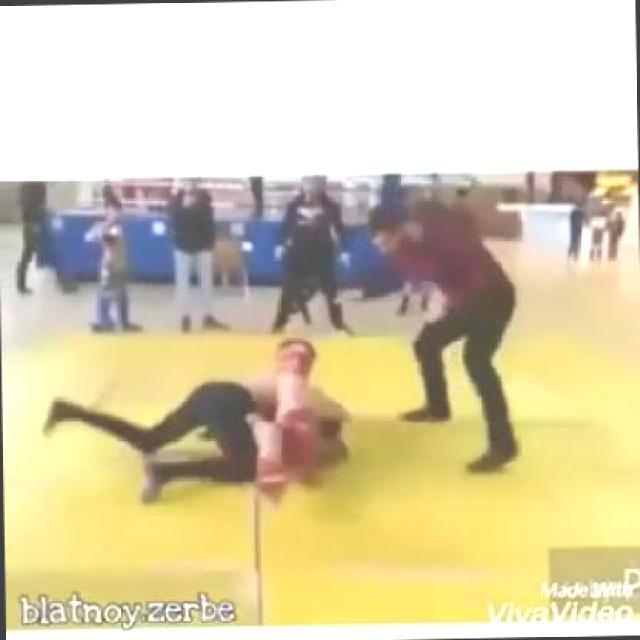fight: (49, 327, 362, 501)
